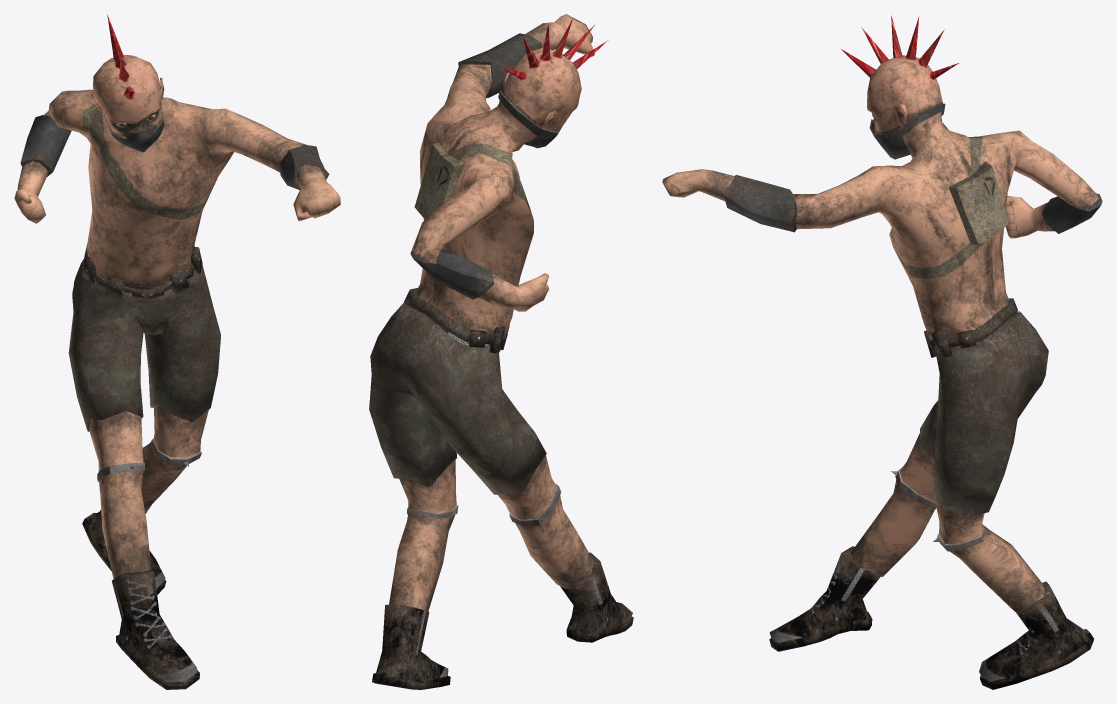
File: Anim_ataque_d3_npc2.0035.obj
3 views of the same model, side by side, from view 1: azimuth 30°, elevation 25°; view 2: azimuth 150°, elevation 25°; view 3: azimuth 270°, elevation 25° (orthographic). The views are drawn at different scales.
Parts seen in each view (by area): view 1: polySurface1; view 2: polySurface1; view 3: polySurface1.
Boxes of the visible parts, bbox=[...] form: polySurface1: bbox=[14, 15, 340, 689]; polySurface1: bbox=[369, 14, 633, 689]; polySurface1: bbox=[662, 15, 1102, 689].
Size of the model in its own units: 3.06 by 9.51 by 6.01.
2 materials, 2 textured.
